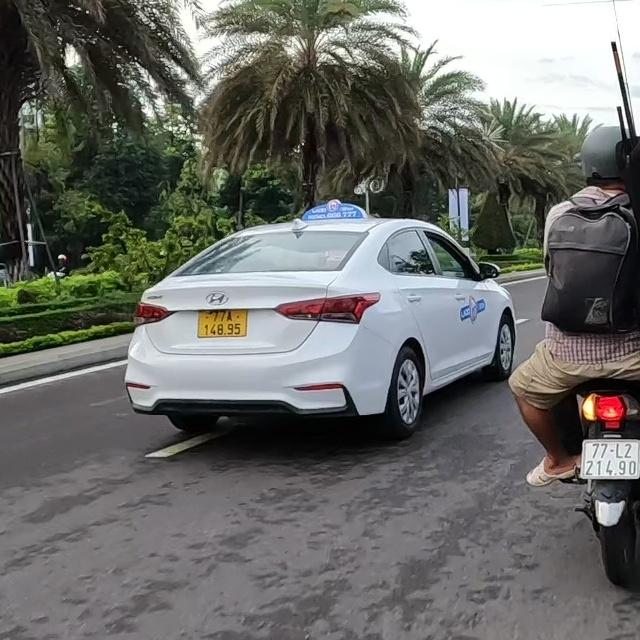license-plate: (579, 439, 640, 479), (196, 309, 247, 339)
